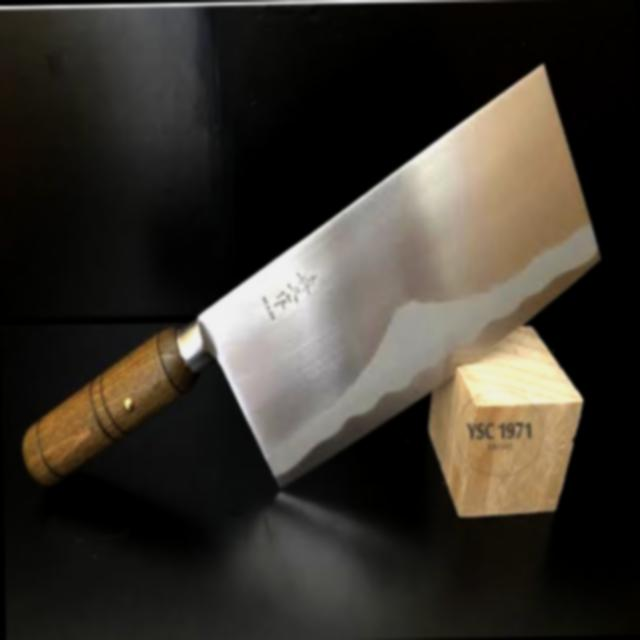knife: (6, 35, 625, 625)
